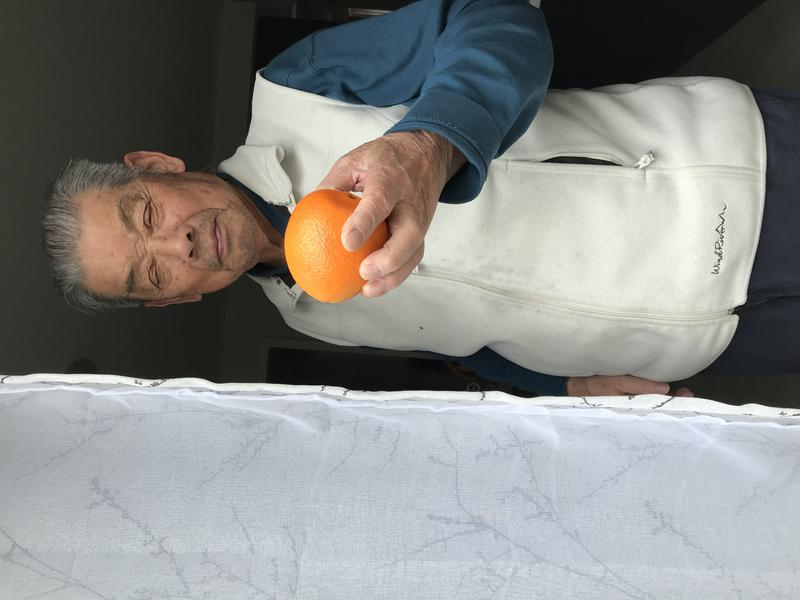orange: (282, 184, 398, 313)
